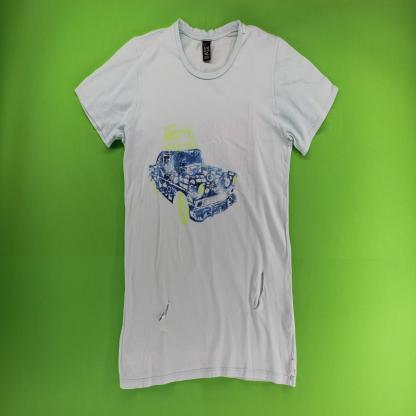hole: (252, 269, 264, 312), (158, 298, 170, 324)
